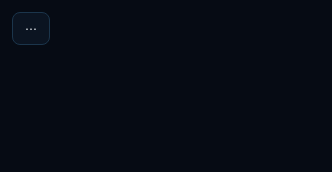
Test case: ActionDropdown › shows a tooltip explanation without expanding the disabled menu item
Step 1. Click the button named "Actions" → coordinates (31, 28), box left=12, top=12, right=50, bottom=45
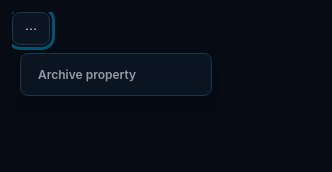
Expected: the menu item with aria-label "Archive property. This property still has units." is disabled, left=25, top=58, right=207, bottom=91
